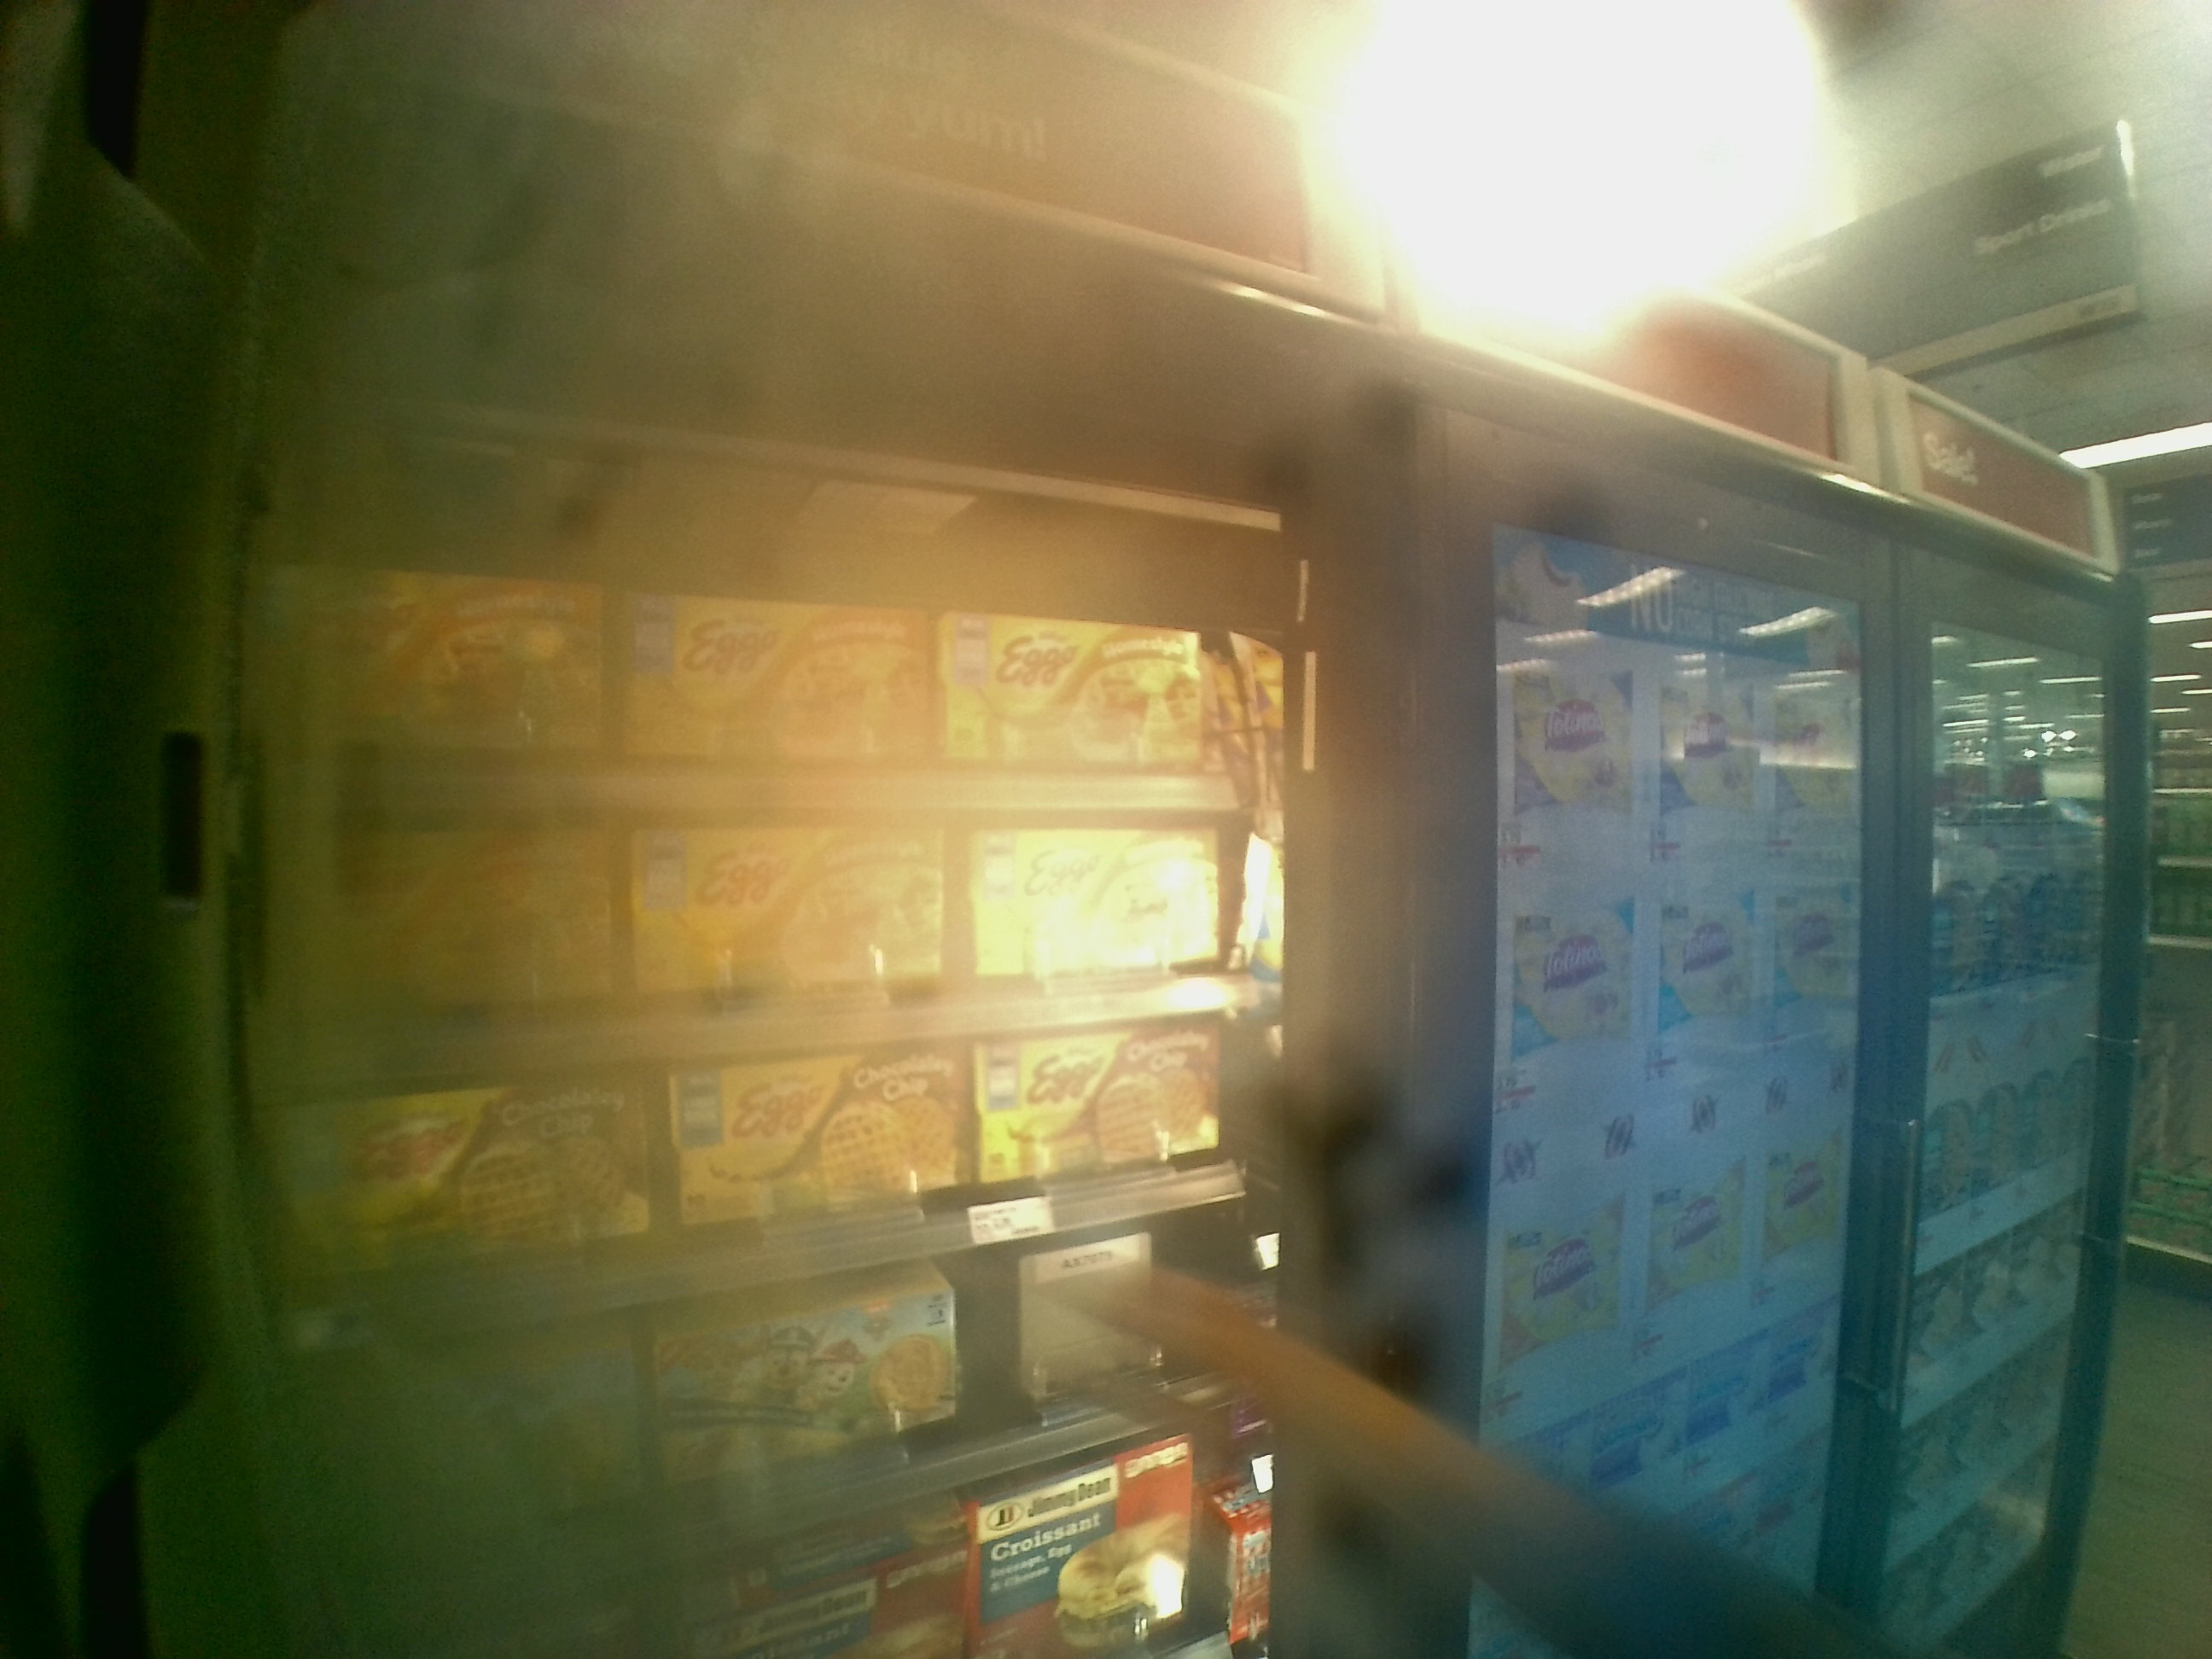shelf: (235, 545, 1287, 812)
